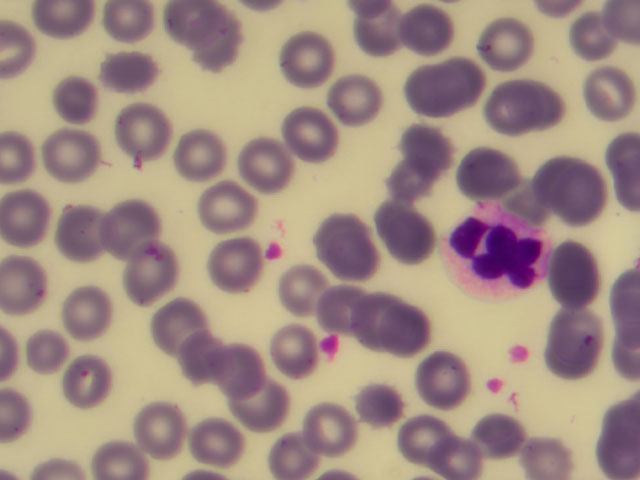Platelets: (511, 340, 533, 372), (263, 238, 288, 265), (319, 333, 342, 355), (488, 376, 507, 398)
RBC: (207, 235, 266, 297), (97, 45, 160, 101), (49, 64, 112, 120), (41, 126, 104, 182), (109, 103, 172, 159), (162, 123, 225, 179), (193, 180, 256, 236), (239, 135, 302, 191), (273, 112, 336, 168), (315, 70, 378, 126), (278, 23, 341, 79), (194, 11, 250, 67), (402, 60, 458, 116), (437, 50, 493, 106), (481, 13, 537, 69), (483, 79, 539, 135), (459, 145, 515, 201), (500, 170, 556, 226), (545, 154, 601, 210), (399, 116, 455, 172), (389, 149, 445, 205), (383, 210, 439, 266), (316, 216, 372, 272), (276, 257, 332, 313), (314, 279, 370, 335), (352, 289, 408, 345), (381, 306, 437, 362), (264, 321, 320, 377), (209, 339, 265, 395), (231, 375, 287, 431), (180, 331, 236, 387), (154, 295, 210, 351), (127, 244, 183, 300), (108, 195, 164, 251), (55, 201, 111, 257), (58, 281, 114, 337), (3, 182, 59, 238), (25, 321, 81, 377), (55, 347, 111, 403), (133, 398, 189, 454), (193, 415, 249, 471), (260, 424, 316, 480), (303, 405, 359, 461), (351, 375, 407, 431), (399, 413, 455, 469), (432, 424, 488, 480), (474, 411, 530, 467), (543, 317, 599, 373), (551, 246, 607, 302), (415, 353, 471, 409), (584, 64, 640, 120), (562, 10, 618, 66), (401, 1, 457, 57), (343, 1, 399, 57), (1, 256, 56, 312), (90, 437, 144, 480), (103, 1, 157, 42), (35, 1, 89, 42)
WBC: (448, 201, 554, 306)
